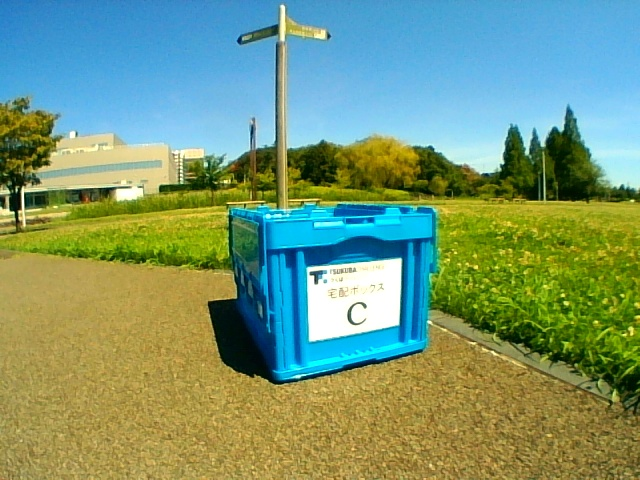blue_box: (265, 207, 425, 351)
tag_c: (322, 271, 385, 330)
